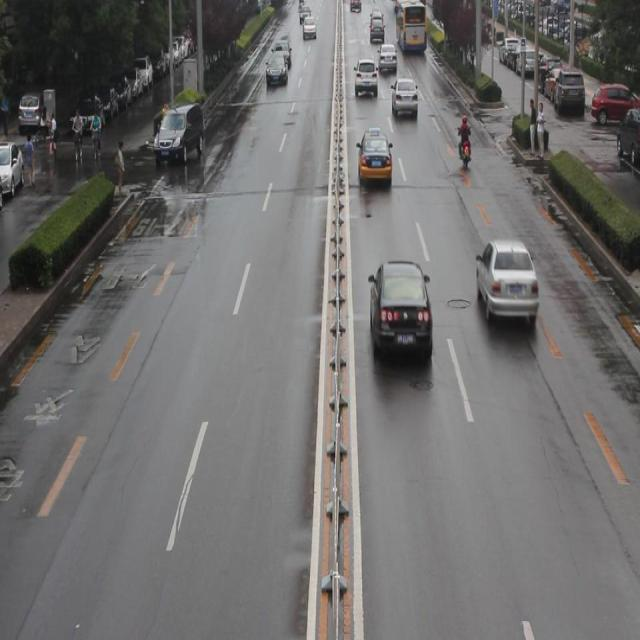car: (369, 258, 430, 368), (474, 236, 536, 332), (356, 133, 390, 190), (390, 82, 417, 120)
truck: (153, 105, 202, 162)
